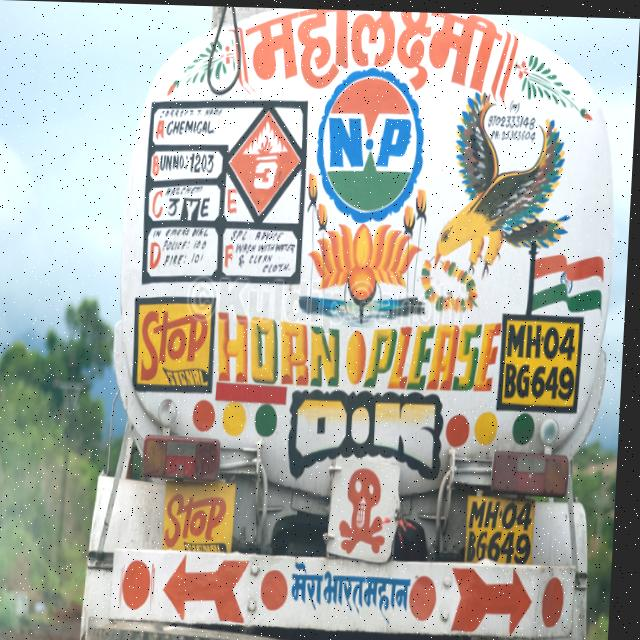plate: (501, 312, 589, 410), (472, 495, 541, 565)
